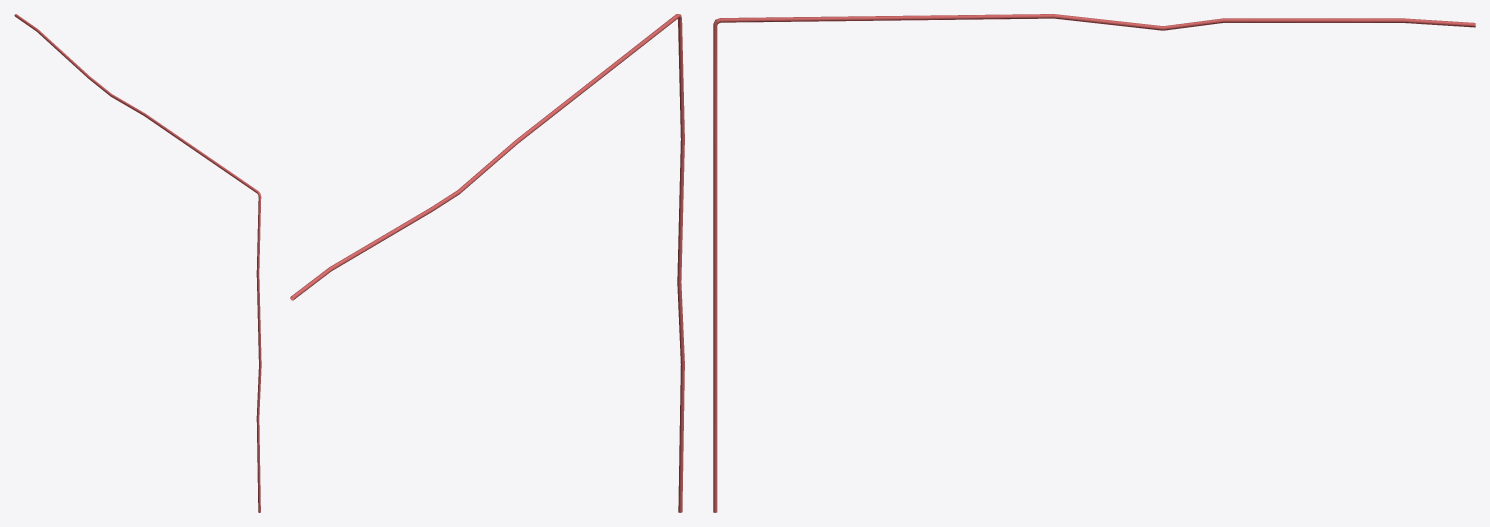
File: Wire_F_Snaps004.FBX
3 views of the same model, side by side, from view 1: azimuth 30°, elevation 25°; view 2: azimuth 150°, elevation 25°; view 3: azimuth 270°, elevation 25° (orthographic). The views are drawn at different scales.
Visible parts, largest first — view 1: Geometry_Wire_F_LOD00; view 2: Geometry_Wire_F_LOD00; view 3: Geometry_Wire_F_LOD00.
Part boxes in pixels (x1,y1,x2,y2): Geometry_Wire_F_LOD00: (14,14,261,512); Geometry_Wire_F_LOD00: (290,14,684,512); Geometry_Wire_F_LOD00: (713,14,1475,512).
Size of what is drawn, in the model's own units: 4 by 117 by 164.
